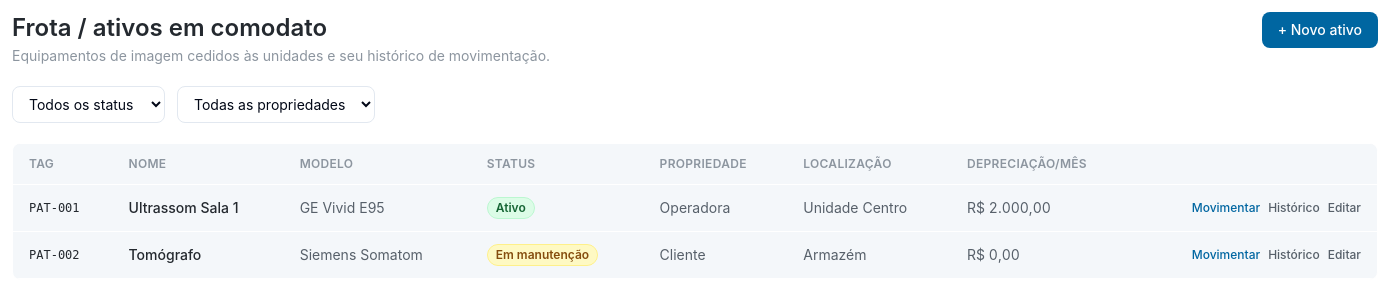
Test: AtivosPage › filters the table by status
Expected: the text "PAT-001" is shown, [13,184,113,232]
Select "Em manutenção" in the 1st dropdown named "Filtrar por status" at (88, 104), box [12,86,165,123]
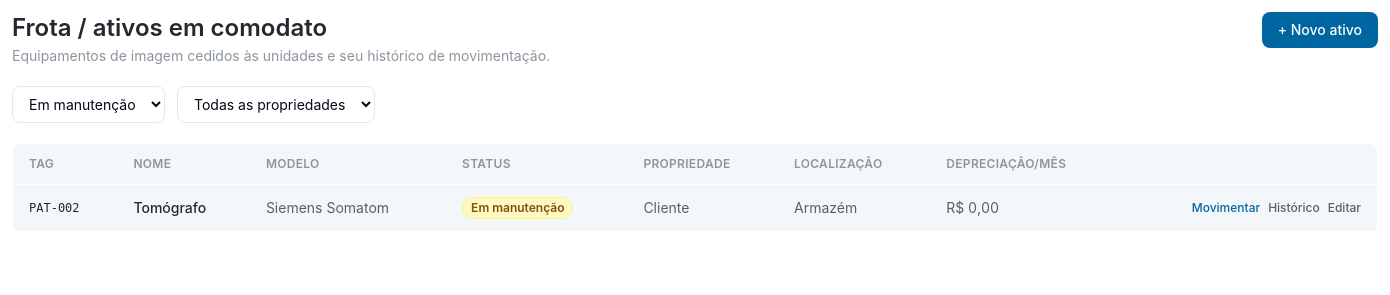
Expected: the text "PAT-002" is shown, [13,184,117,232]
Expected: the text "PAT-001" is gone
